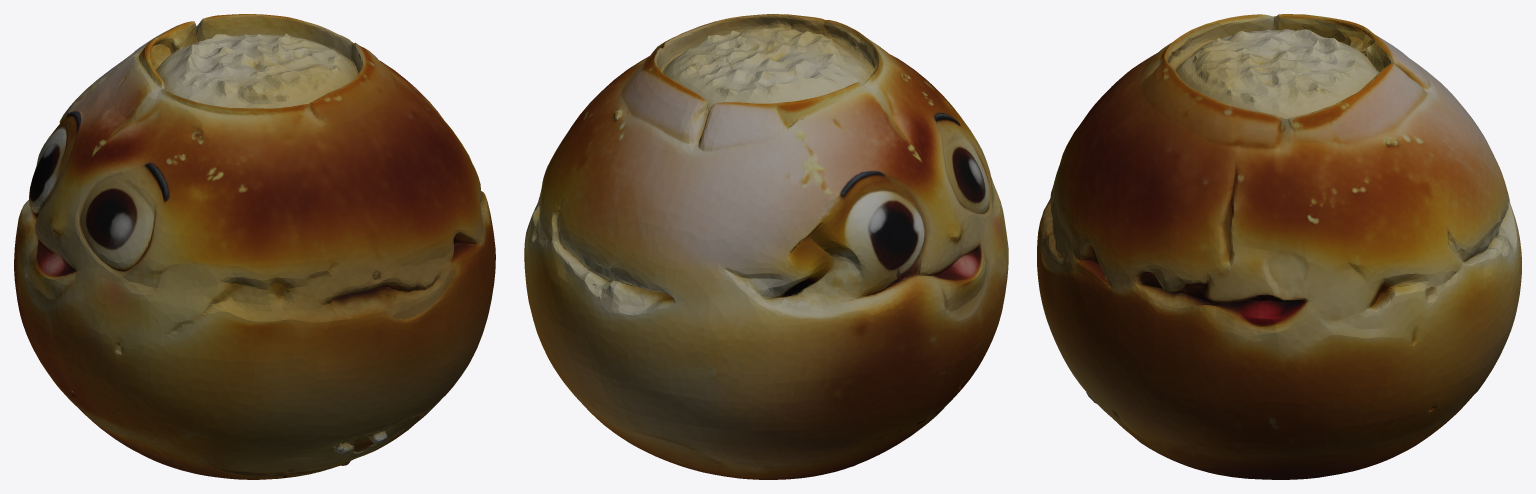
File: 064b4b1b-bf61-462d-b083-5888eb6ddfcc.glb
3 renders of one model, left to right at view 1: azimuth 30°, elevation 25°; view 2: azimuth 150°, elevation 25°; view 3: azimuth 270°, elevation 25°, orthographic.
Parts seen in each view (by area): view 1: world; view 2: world; view 3: world.
Part boxes in pixels (box(x1,y1,x2,y2)): world: box(14, 14, 495, 479); world: box(524, 14, 1008, 479); world: box(1037, 14, 1521, 479).
Bounding box in the file's own units: 0.999 × 0.8841 × 0.9962.
1 material, 1 textured.
